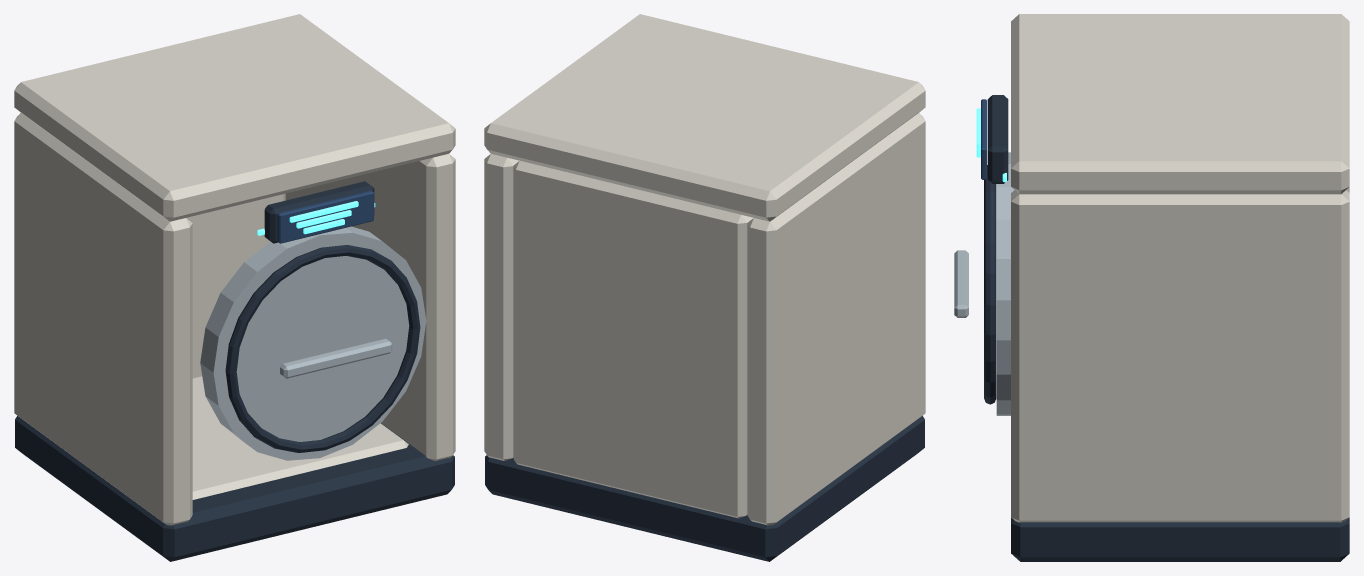
The model's file is clinic_11.glb.
3 renders of one model, left to right at view 1: azimuth 30°, elevation 25°; view 2: azimuth 150°, elevation 25°; view 3: azimuth 270°, elevation 25°, orthographic. The views are drawn at different scales.
Parts seen in each view (by area): view 1: Side (×2), Top, PressureDoor, Base, Bottom, SealRing, Back, Screen, Handle, MonitorFrame; view 2: Back, Side (×2), Top, Base; view 3: Side, Top, Base, PressureDoor, SealRing, MonitorFrame, Handle.
Part boxes in pixels (x1,y1,x2,y2): Side (×2): (14, 113, 455, 525); Top: (14, 14, 455, 221); PressureDoor: (200, 226, 426, 460); Base: (15, 416, 454, 561); Bottom: (192, 376, 408, 499); SealRing: (225, 245, 420, 452); Back: (186, 193, 285, 378); Screen: (277, 190, 373, 243); Handle: (280, 338, 392, 378); MonitorFrame: (264, 181, 374, 243); Back: (513, 161, 753, 518); Side (×2): (484, 113, 925, 525); Top: (484, 14, 925, 221); Base: (485, 416, 924, 561); Side: (1011, 190, 1349, 522); Top: (1011, 14, 1349, 194); Base: (1011, 517, 1349, 561); PressureDoor: (996, 152, 1013, 415); SealRing: (984, 165, 996, 404); MonitorFrame: (987, 95, 1008, 183); Handle: (954, 250, 968, 317).
Size of the model in its own units: 0.7 by 0.85 by 0.759.
